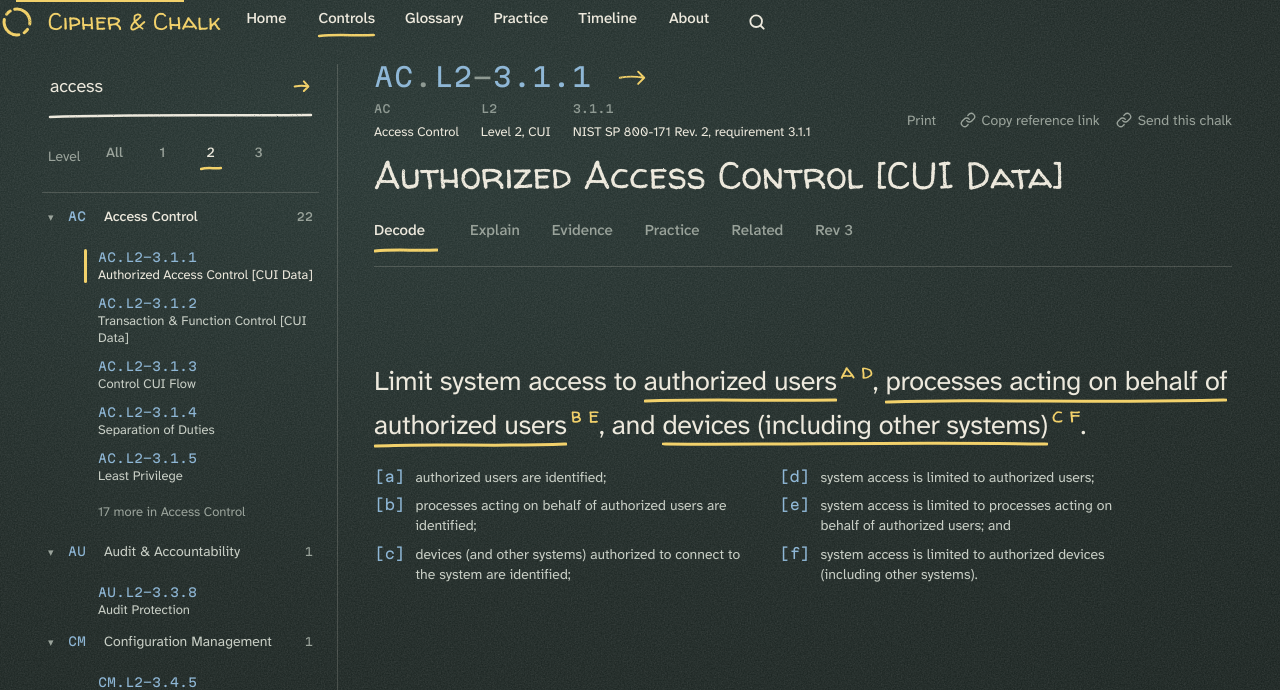
it: Explorer navigation regressions › keeps the filters and mode of an old demo link on the control it opens
Expected: the heading "Authorized Access Control [CUI Data]" is shown, x1=374 y1=149 x2=1064 y2=201
Expected: the search field named "Find controls" holds "access", x1=48 y1=64 x2=281 y2=108
Click the link "Explain". click: click(495, 230)
box: x1=470 y1=220 x2=520 y2=240
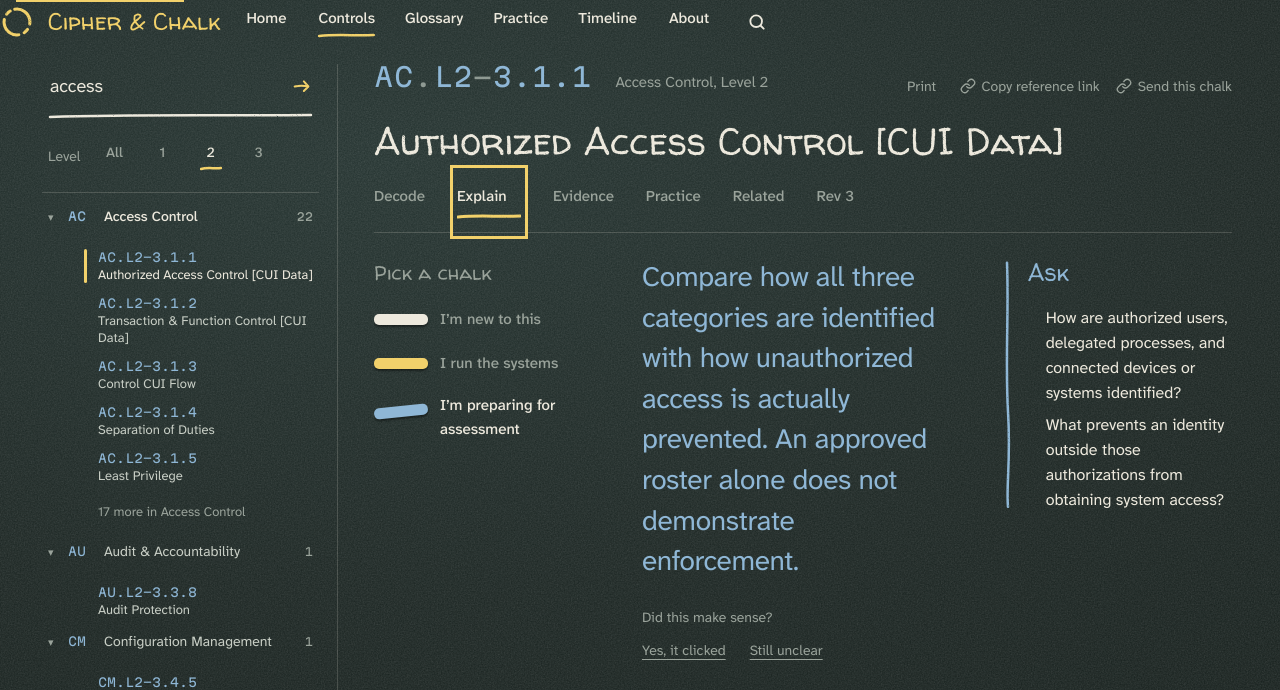
Now the panel named "I’m preparing for assessment" is shown, box x1=642 y1=257 x2=1232 y2=672
